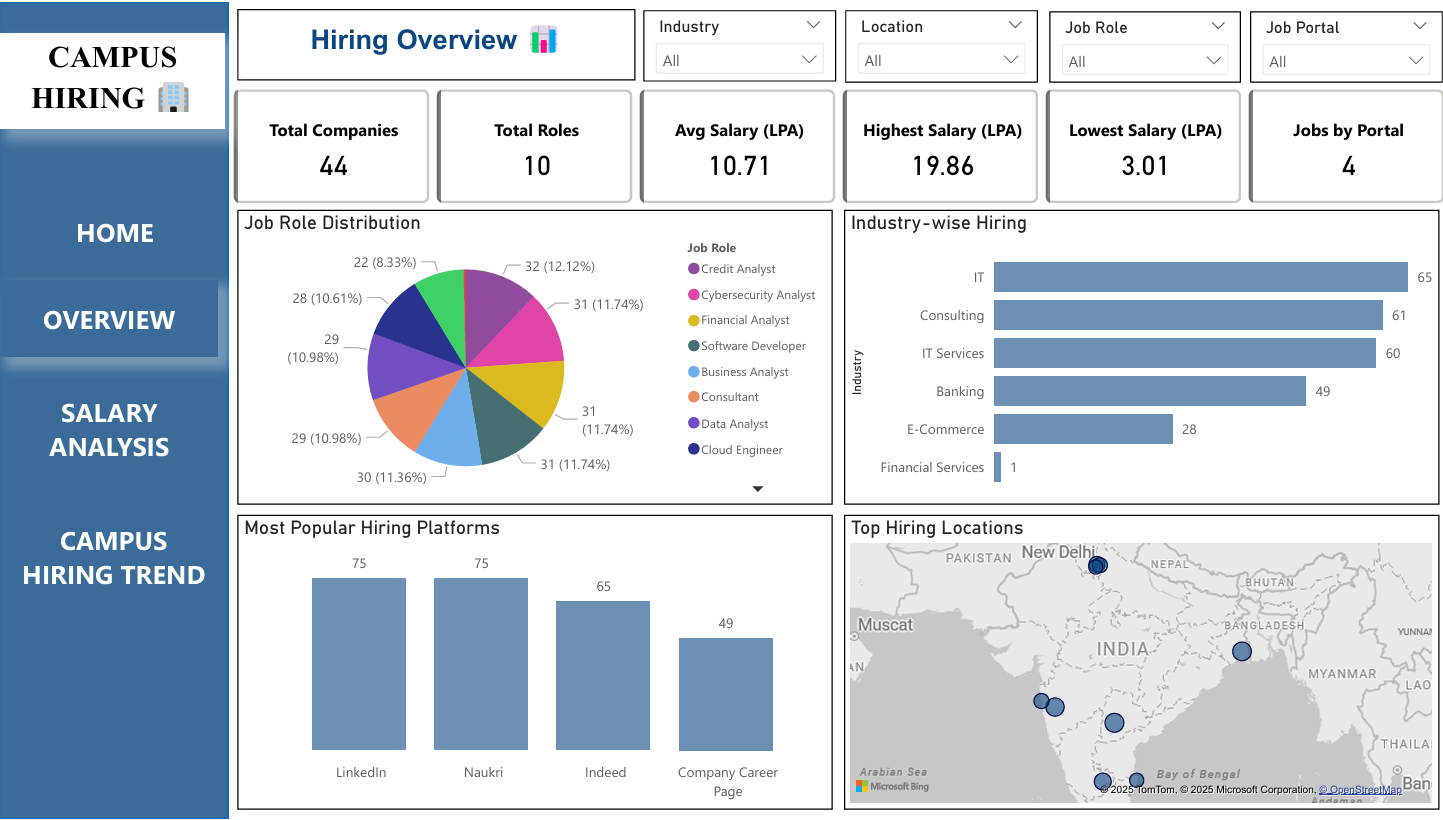

What the dashboard file says about the page in this screenshot:
{"tool":"powerbi","page":{"name":"Overview","canvas":[1280,720],"ordinal":1},"visuals":[{"type":"cardVisual","fields":{"Data":["Count(campus_hiring_verified_companies_new.Company)","Count(campus_hiring_verified_companies_new.Job Role)","Avg(campus_hiring_verified_companies_new.Salary (INR LPA))","Max(campus_hiring_verified_companies_new.Salary (INR LPA))1","Min(campus_hiring_verified_companies_new.Salary (INR LPA))2","Count(campus_hiring_verified_companies_new.Job Portal)"]},"box":[201.8,72,1078.5,110],"z":0},{"type":"pieChart","title":"Job Role Distribution","fields":{"Category":["campus_hiring_verified_companies_new.Job Role"],"Y":["CountNonNull(campus_hiring_verified_companies_new.Company)"]},"box":[210.3,183,524.6,260],"z":1000},{"type":"barChart","title":"Industry-wise Hiring","fields":{"Category":["campus_hiring_verified_companies_new.Industry"],"Y":["CountNonNull(campus_hiring_verified_companies_new.Job Role)"]},"box":[745,183,525,260],"z":2000},{"type":"map","title":"Top Hiring Locations","fields":{"Category":["campus_hiring_verified_companies_new.Location"],"Size":["CountNonNull(campus_hiring_verified_companies_new.Job Role)"]},"box":[745,452,525,260],"z":3000},{"type":"columnChart","title":"Most Popular Hiring Platforms","fields":{"Category":["campus_hiring_verified_companies_new.Job Portal"],"Y":["CountNonNull(campus_hiring_verified_companies_new.Job Role)"]},"box":[210,452,525,260],"z":4000},{"type":"shape","box":[0,0,201.8,720.2],"z":5000},{"type":"slicer","fields":{"Values":["campus_hiring_verified_companies_new.Industry"]},"box":[568,6.9,170.2,63.1],"z":6000},{"type":"slicer","fields":{"Values":["campus_hiring_verified_companies_new.Location"]},"box":[746,6.9,170.2,64.5],"z":7000},{"type":"slicer","fields":{"Values":["campus_hiring_verified_companies_new.Job Role"]},"box":[926,8.2,168.8,63.1],"z":8000},{"type":"slicer","fields":{"Values":["campus_hiring_verified_companies_new.Job Portal"]},"box":[1103,8.2,170.2,63.1],"z":9000},{"type":"textbox","box":[210.3,6,351,63],"z":10000},{"type":"actionButton","box":[1.2,167.5,201.8,68.5],"z":11000},{"type":"actionButton","box":[1.2,244.6,192,68.5],"z":12000},{"type":"actionButton","box":[1.2,328.9,192,92.9],"z":13000},{"type":"actionButton","box":[0,421.9,201.8,134.5],"z":14000},{"type":"textbox","box":[1,28,198,84],"z":15000}]}

Visuals, with their boxes in screenshot pixels (x1, y1, x2, y2), scaled from the page's 1280x720 canvas onto the 1443x820 screenshot:
cardVisual - Count(campus_hiring_verified_companies_new.Company) x Count(campus_hiring_verified_companies_new.Job Role): (227, 82, 1442, 207)
"Job Role Distribution" pieChart: (237, 208, 828, 505)
"Industry-wise Hiring" barChart: (840, 208, 1432, 505)
"Top Hiring Locations" map: (840, 515, 1432, 811)
"Most Popular Hiring Platforms" columnChart: (237, 515, 829, 811)
shape: (0, 0, 227, 819)
slicer - campus_hiring_verified_companies_new.Industry: (640, 8, 832, 80)
slicer - campus_hiring_verified_companies_new.Location: (841, 8, 1033, 81)
slicer - campus_hiring_verified_companies_new.Job Role: (1044, 9, 1234, 81)
slicer - campus_hiring_verified_companies_new.Job Portal: (1243, 9, 1435, 81)
textbox: (237, 7, 633, 79)
actionButton: (1, 191, 229, 269)
actionButton: (1, 279, 218, 357)
actionButton: (1, 375, 218, 480)
actionButton: (0, 480, 227, 634)
textbox: (1, 32, 224, 128)
